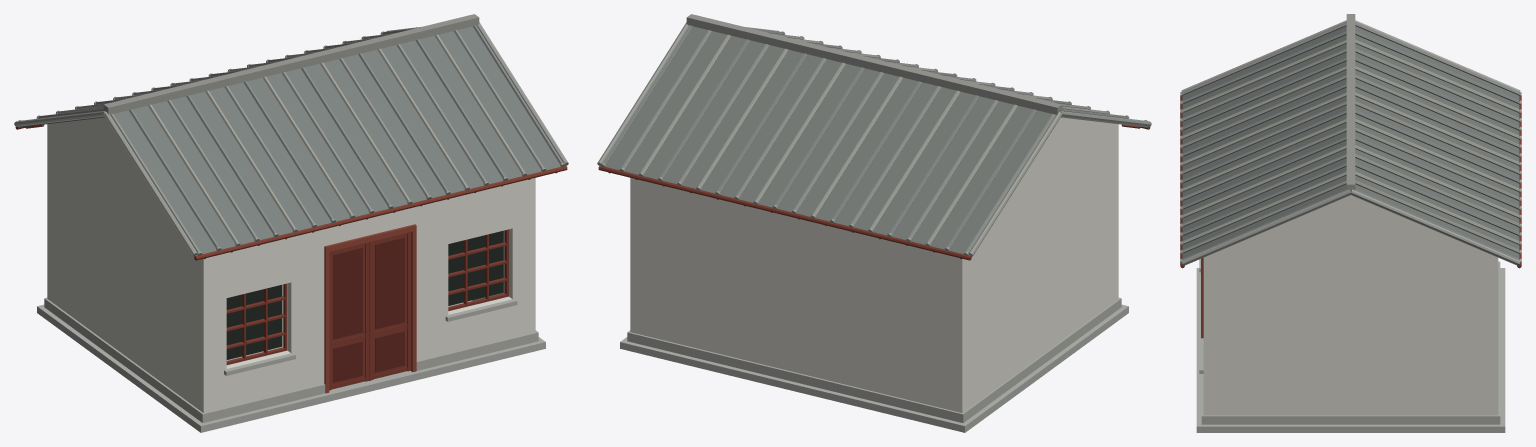
The model's file is chongming-ruxue-gate-lod.glb.
3 views of the same model, side by side, from view 1: azimuth 30°, elevation 25°; view 2: azimuth 150°, elevation 25°; view 3: azimuth 270°, elevation 25° (orthographic). The views are drawn at different scales.
Bounding box in the file's own units: 11.65 × 8 × 9.74.
